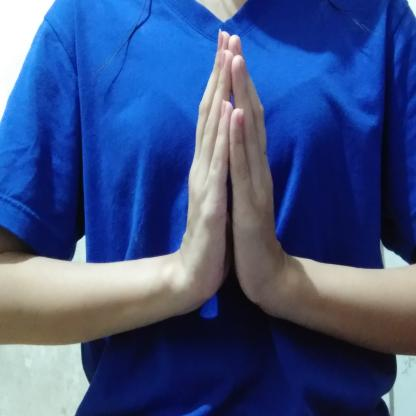sorry: (156, 24, 303, 329)
